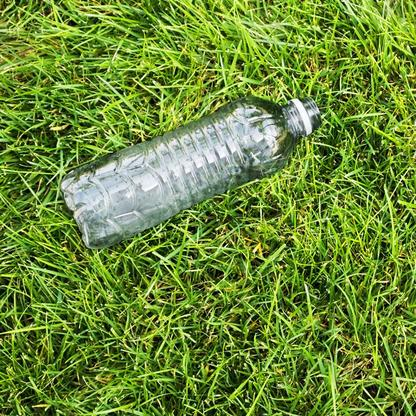plastic bottle: (60, 96, 321, 247)
